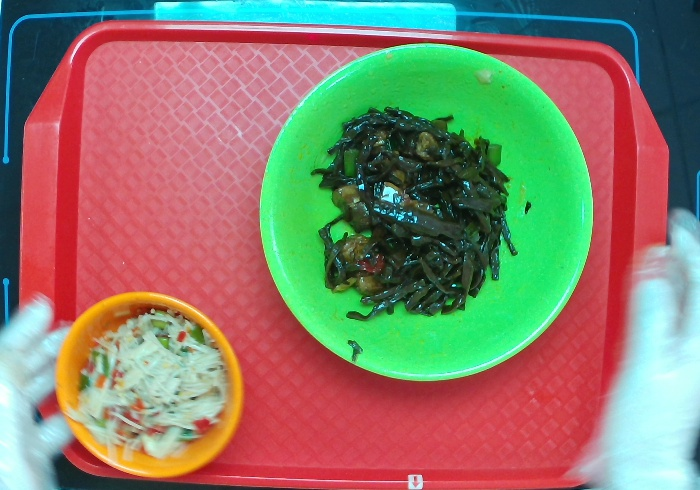YKMZ-Ju_Se_Yuan_Wan: (55, 287, 247, 482)
YKMZ-Lv_Se_Tang_Wan: (254, 37, 596, 382)
